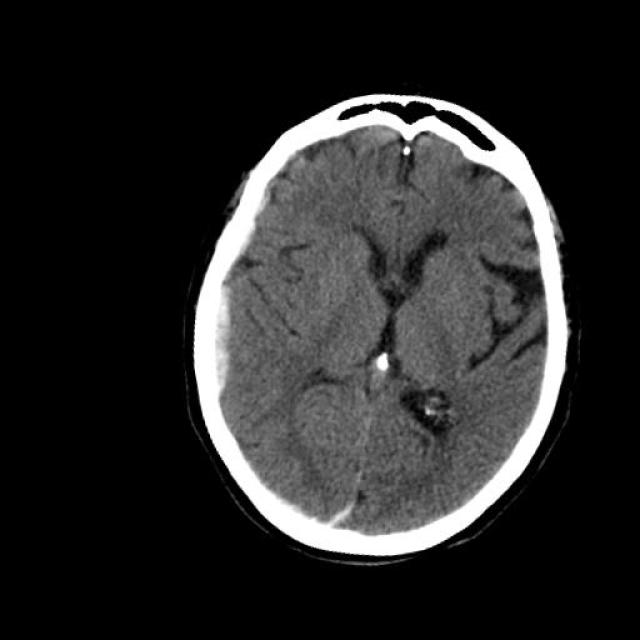Subdural: (106, 150, 328, 429)
